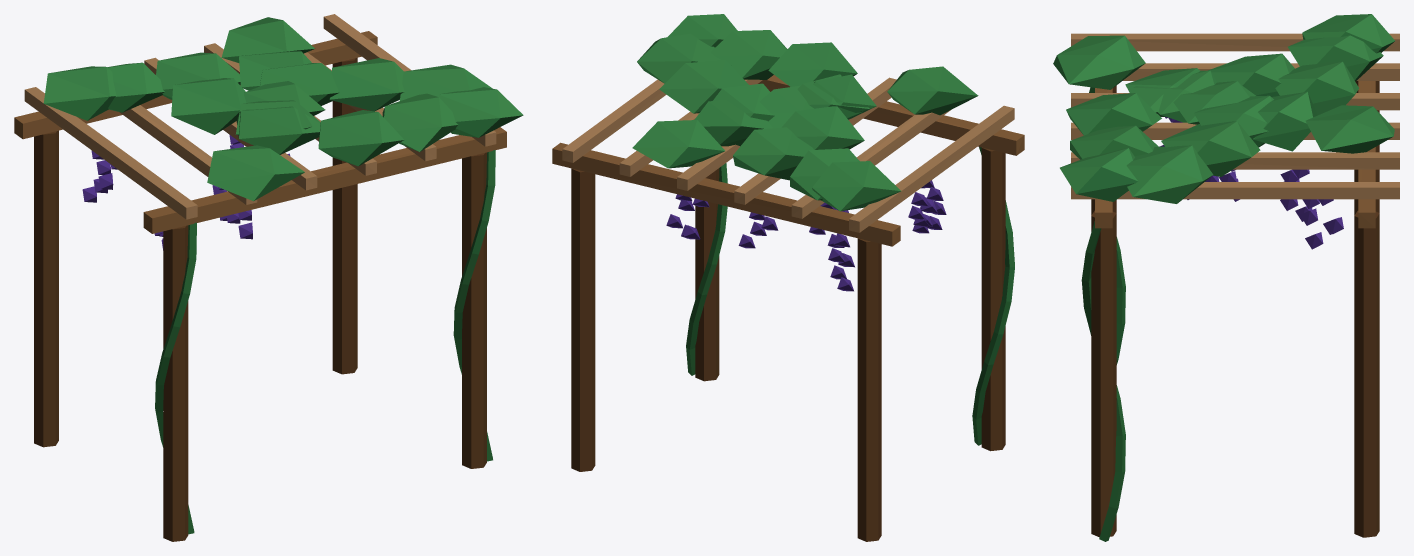
File: arbor.glb
3 views of the same model, side by side, from view 1: azimuth 30°, elevation 25°; view 2: azimuth 150°, elevation 25°; view 3: azimuth 270°, elevation 25° (orthographic). The views are drawn at different scales.
Visible parts, largest first — view 1: base; view 2: base; view 3: base.
Boxes of the visible parts, x1,y1,x2,y2 form: base: (14,14,523,541); base: (552,14,1024,541); base: (1053,14,1399,541).
Size of the model in its own units: 0.9828 by 0.9547 by 0.7908.
